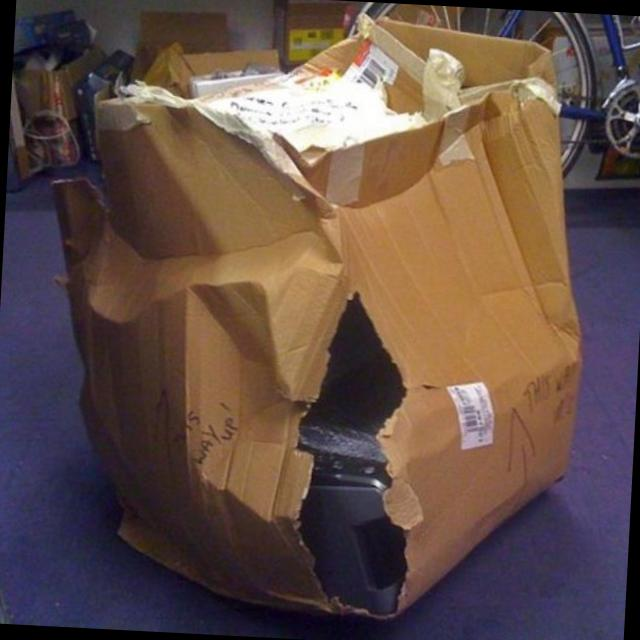box: (63, 53, 609, 604)
